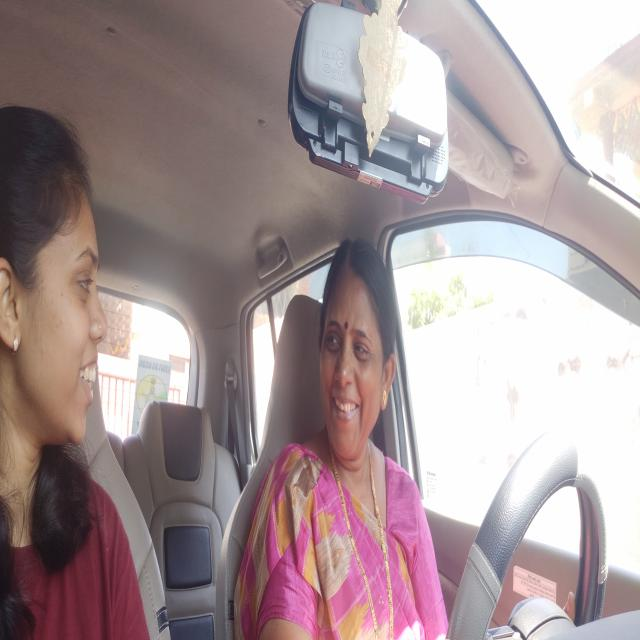LeftRight: (316, 234, 399, 459)
person: (0, 98, 113, 478)
talking: (78, 348, 102, 401), (332, 388, 362, 428)
